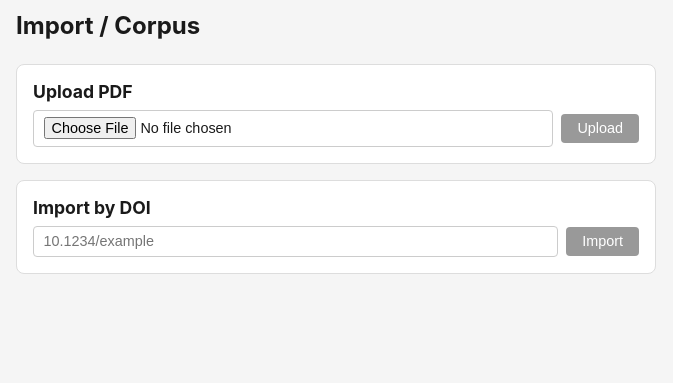
Test: JobTracker › polls and displays running status with stage
Step 1. Type "10.1/running" into the field with test id "doi-input" → x=296, y=241, box top-left (33, 226), bottom-right (558, 257)
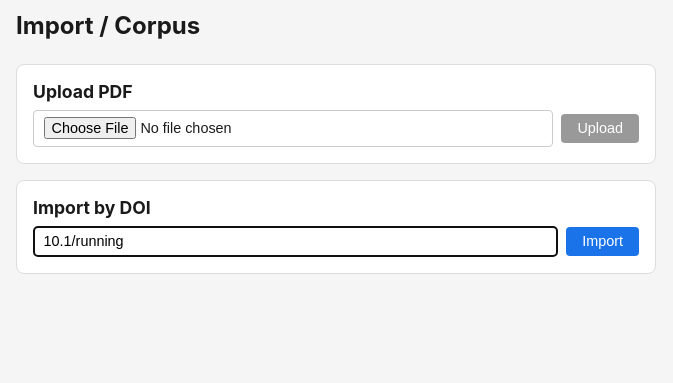
Step 2. Click the button with test id "doi-btn" → x=603, y=241, box top-left (566, 227), bottom-right (639, 256)
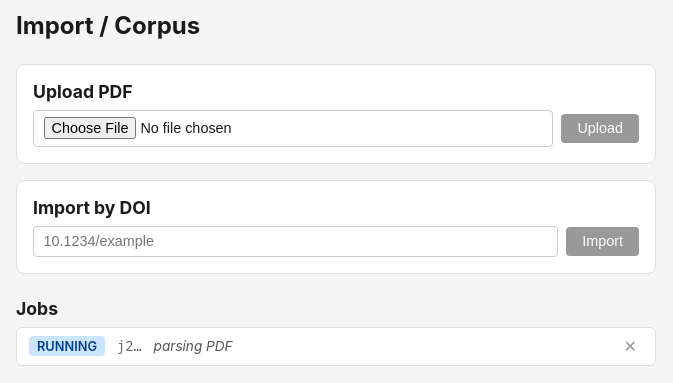
Now the element with test id "job-j2" shows "running", box top-left (37, 339), bottom-right (97, 354)
Now the element with test id "job-j2" shows "parsing PDF", box top-left (154, 338), bottom-right (233, 354)
